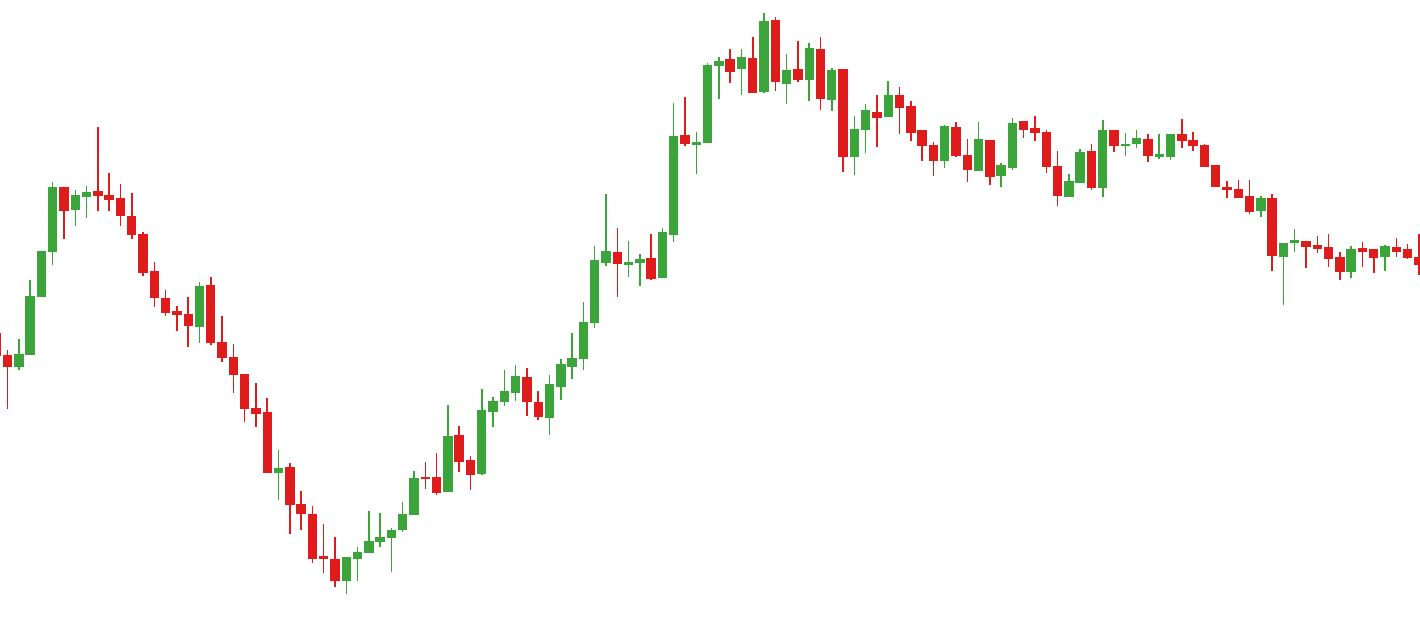sell: (937, 118, 1030, 162)
